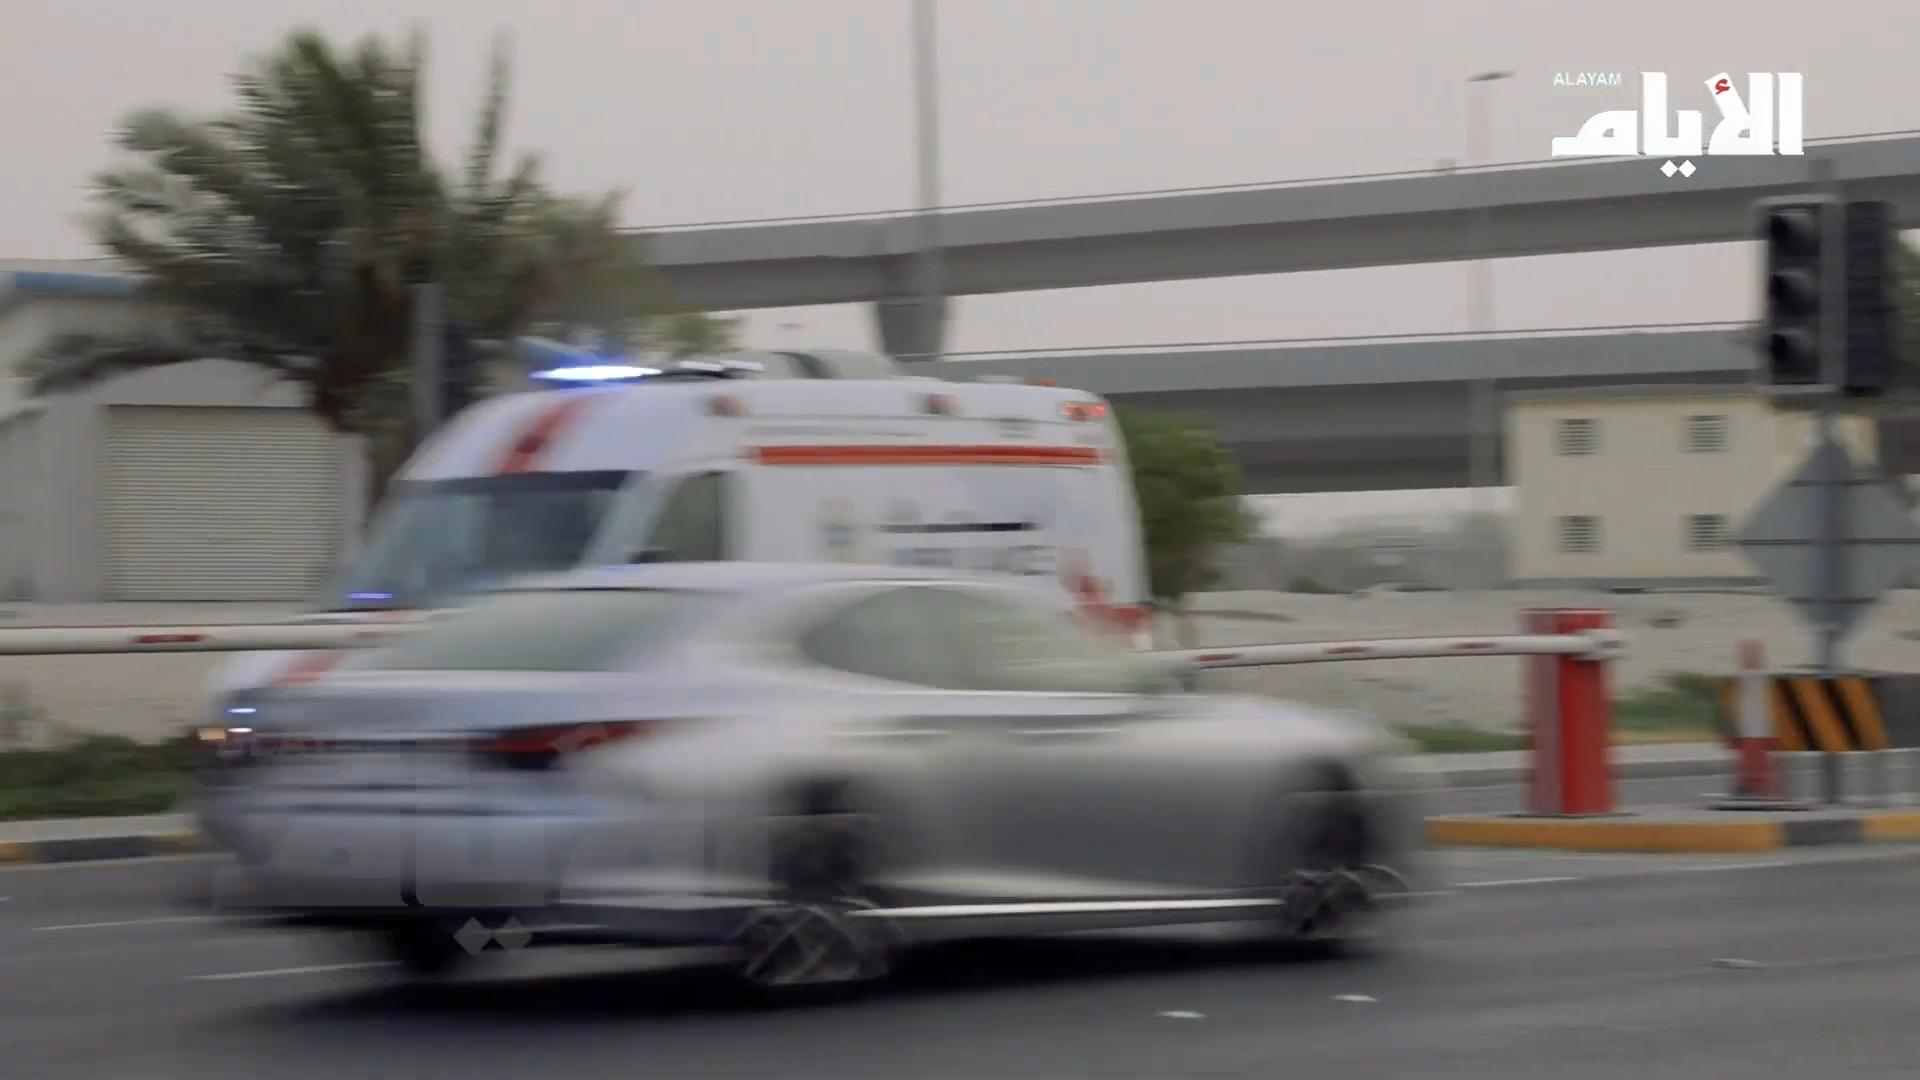ambulance_on: (210, 351, 1159, 837)
